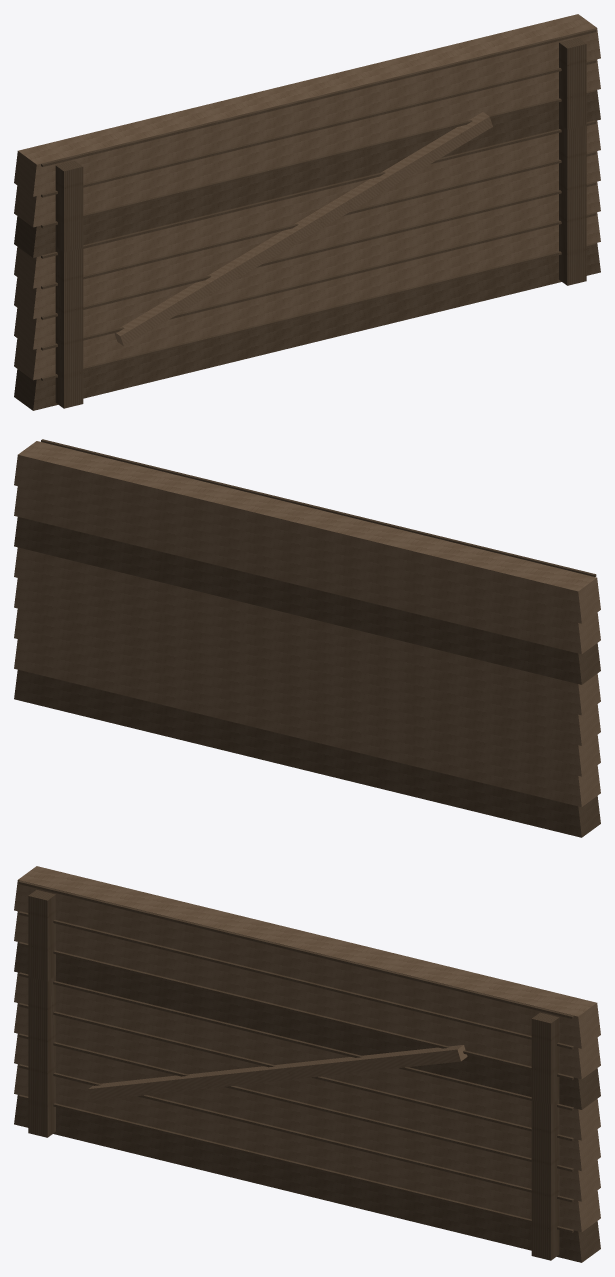
The model's file is village__04__old_warehouse__pier_door_right__section_03.glb.
The picture shows the model from 3 angles, top to bottom: view 1: azimuth 30°, elevation 25°; view 2: azimuth 150°, elevation 25°; view 3: azimuth 330°, elevation 25°; orthographic projection.
Parts seen in each view (by area): view 1: PierDoorRight_Section_03; view 2: PierDoorRight_Section_03; view 3: PierDoorRight_Section_03.
Boxes of the visible parts, <box> form: PierDoorRight_Section_03: <box>14,14,600,410</box>; PierDoorRight_Section_03: <box>14,439,600,837</box>; PierDoorRight_Section_03: <box>14,866,600,1262</box>.
Size of the model in its own units: 3.81 by 1.58 by 0.3187.
2 materials, 2 textured.
